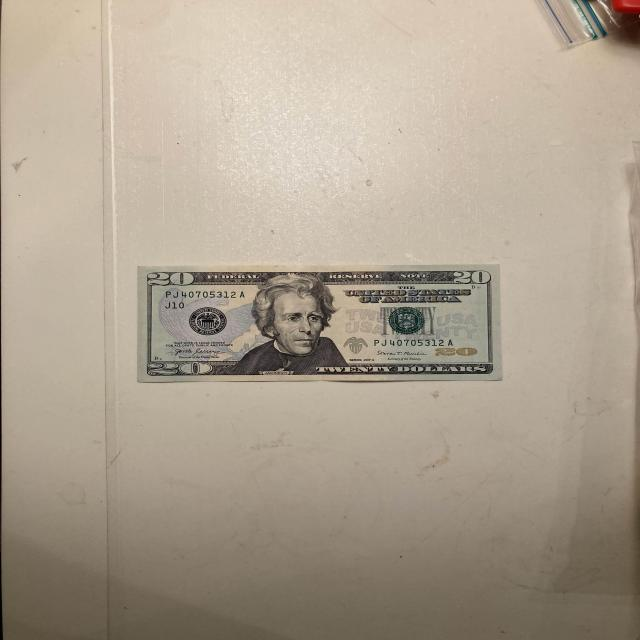twenty: (136, 264, 502, 382)
